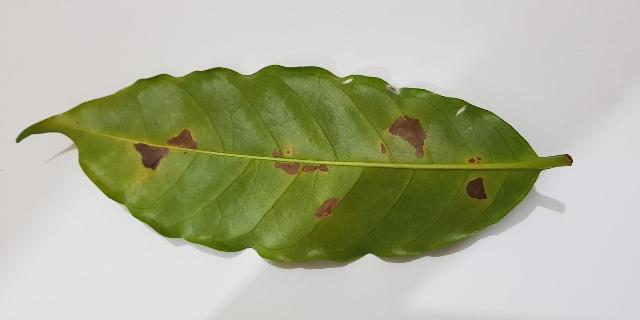cercospora: (132, 128, 198, 171), (272, 143, 329, 177), (386, 115, 426, 158), (466, 177, 488, 201), (314, 198, 339, 219), (379, 142, 387, 158), (468, 158, 481, 165)
